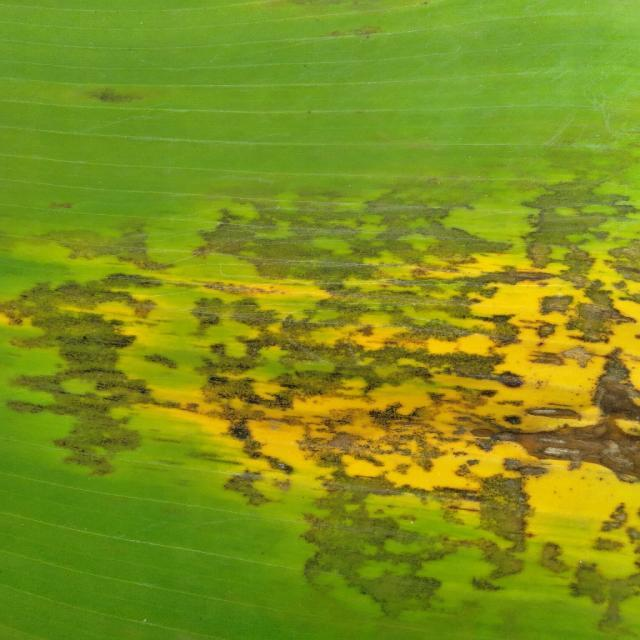Early_rust: (0, 114, 640, 607)
